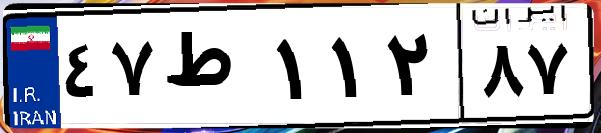1: (270, 28, 330, 110), (330, 28, 385, 110)
2: (385, 28, 445, 110)
4: (57, 26, 110, 100)
7: (525, 38, 570, 115), (110, 28, 158, 98)
8: (475, 38, 525, 113)
ط: (158, 20, 270, 120)
